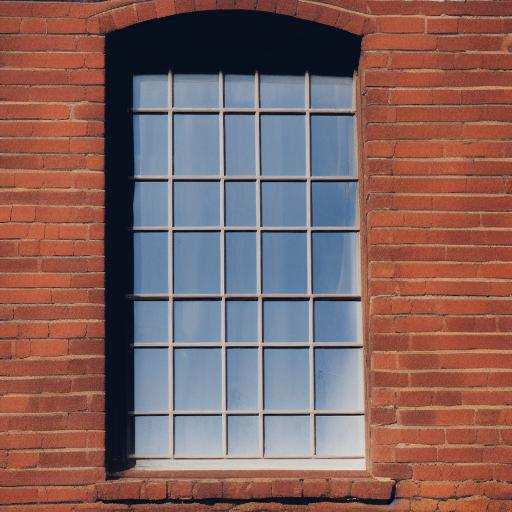Window: (88, 1, 399, 503)
